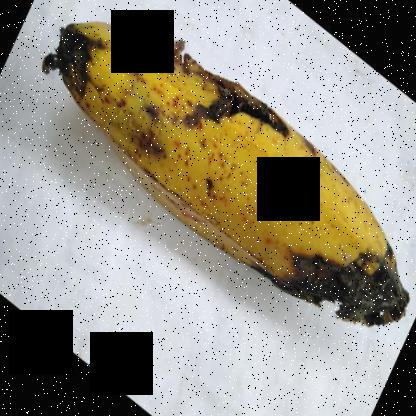rotten: (125, 2, 326, 165), (207, 215, 415, 367), (27, 0, 114, 146)
